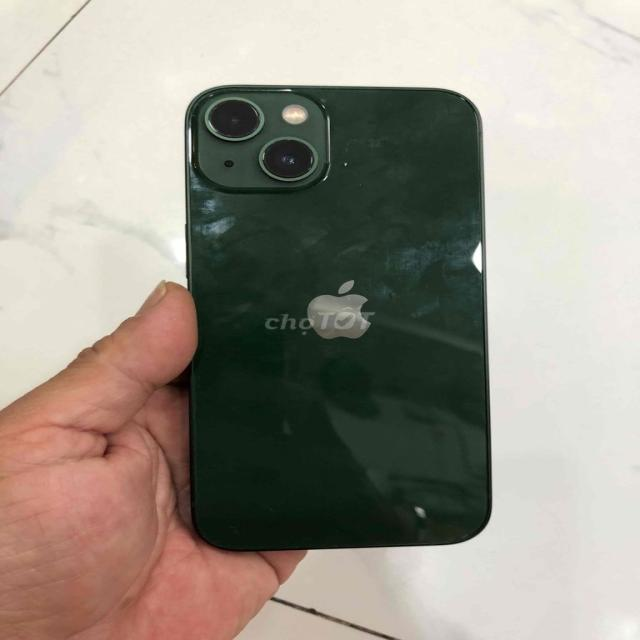gen_12_13: (178, 76, 514, 562)
